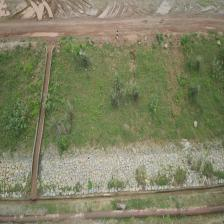rock toe: (37, 139, 224, 198), (0, 153, 31, 198)
slope drain: (31, 45, 55, 200)
